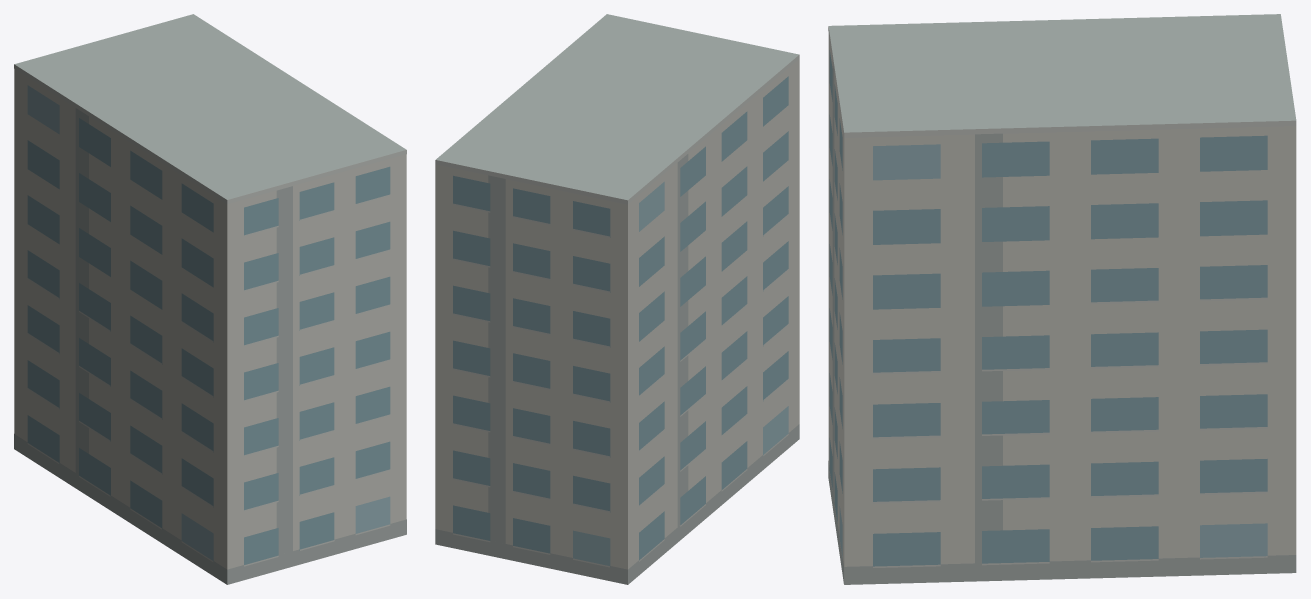
File: residential-cd6419e1-6ff4-4ac8-9f02-ef7534248803.glb
3 renders of one model, left to right at view 1: azimuth 30°, elevation 25°; view 2: azimuth 150°, elevation 25°; view 3: azimuth 270°, elevation 25°, orthographic. The views are drawn at different scales.
Visible parts, largest first — view 1: residential-cd6419e1-6ff4-4ac8-9f02-ef7534248803.tmp; view 2: residential-cd6419e1-6ff4-4ac8-9f02-ef7534248803.tmp; view 3: residential-cd6419e1-6ff4-4ac8-9f02-ef7534248803.tmp.
Boxes of the visible parts, x1,y1,x2,y2 form: residential-cd6419e1-6ff4-4ac8-9f02-ef7534248803.tmp: (14,14,406,584); residential-cd6419e1-6ff4-4ac8-9f02-ef7534248803.tmp: (435,14,799,584); residential-cd6419e1-6ff4-4ac8-9f02-ef7534248803.tmp: (828,14,1296,584).
Bounding box in the file's own units: 12.02 × 21.35 × 20.03.
